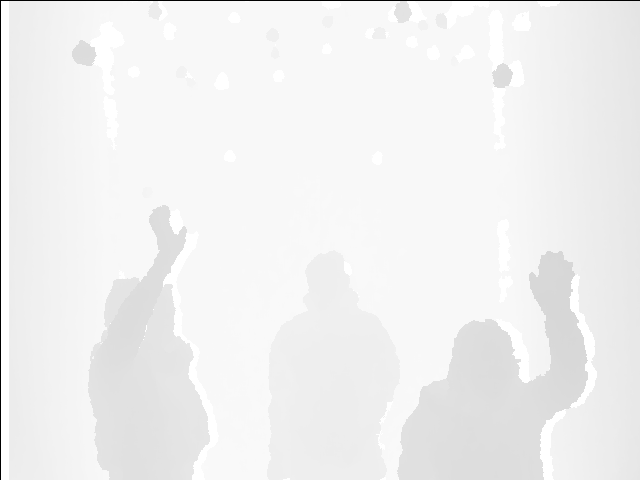hand: (530, 250, 576, 309), (150, 205, 186, 256)
